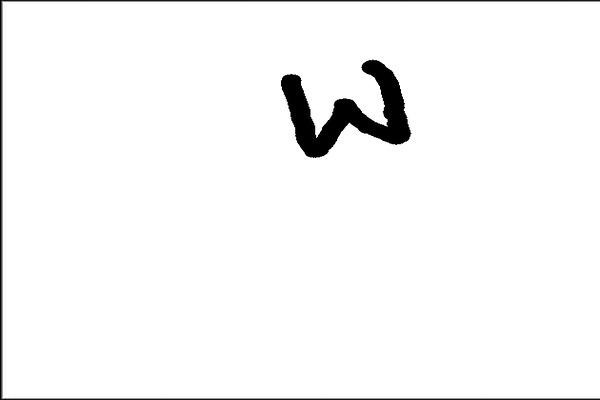w: (260, 55, 426, 175)
